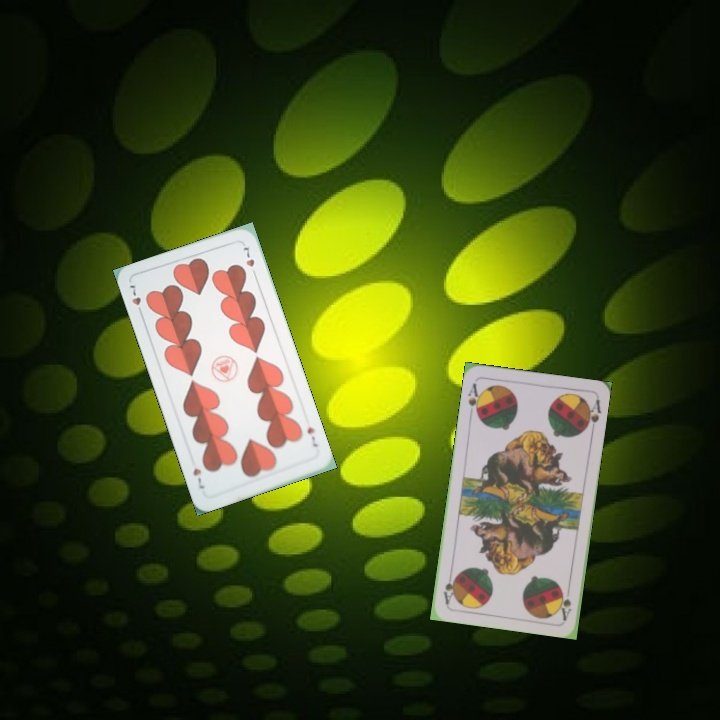H7: (125, 281, 146, 319), (303, 423, 321, 449)
SA: (464, 379, 484, 419), (556, 581, 574, 622)
